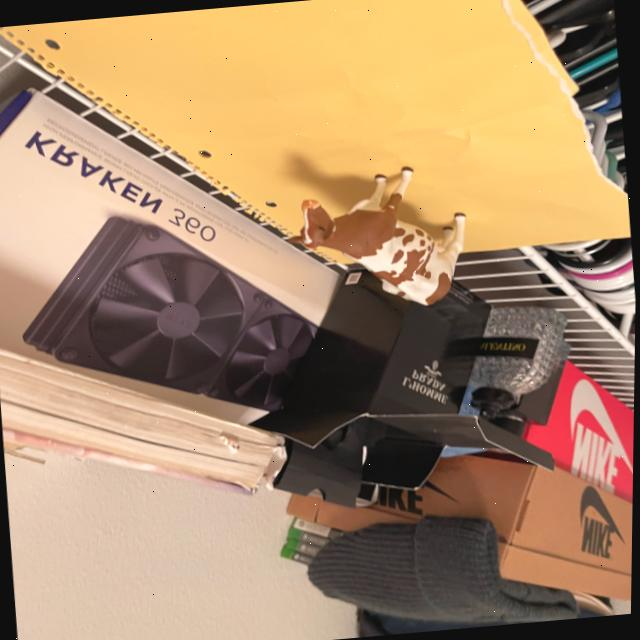cow: (285, 134, 489, 314)
